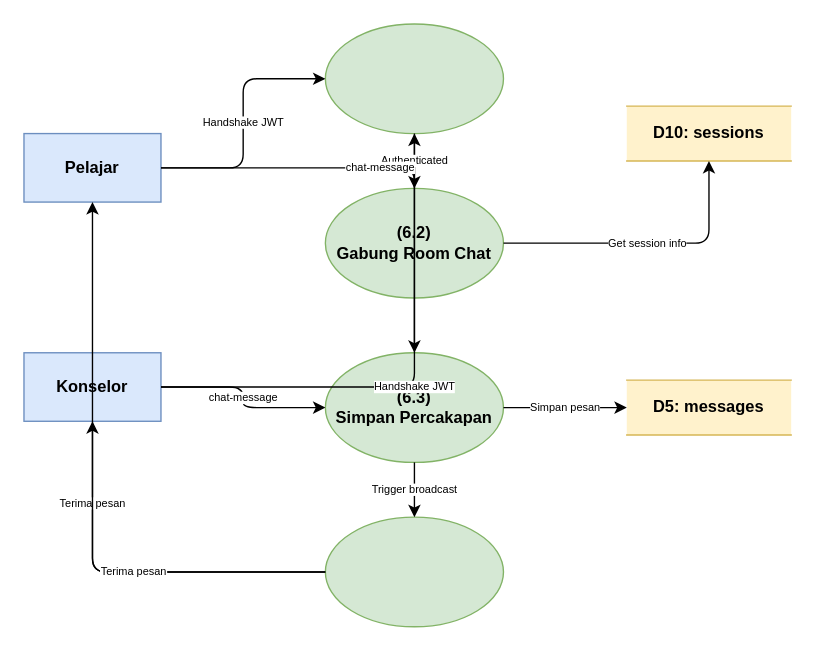
Some shapes in this 815 by 651 pixel diagram are drawn without their labels. Here are the shapes that lost their labels. From the top down, the centre of each, then its label:
(x=413, y=78): (6.1) Handshake & Auth ws
(x=413, y=571): (6.4) Siarkan Pesan ws
